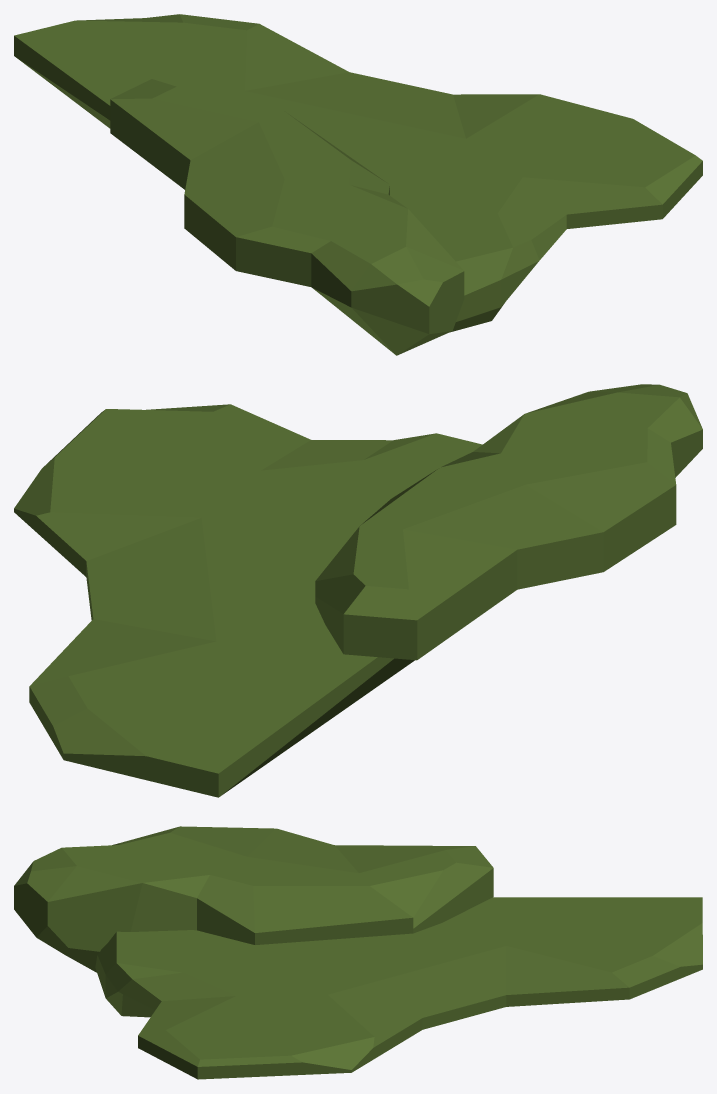
File: LightVegetationDecorationMediumFloorOvergrowth1.fbx
The picture shows the model from 3 angles, top to bottom: view 1: azimuth 30°, elevation 25°; view 2: azimuth 150°, elevation 25°; view 3: azimuth 270°, elevation 25°; orthographic projection. The views are drawn at different scales.
Visible parts, largest first — view 1: LightVegetationDecorationMediumFloorOvergrowth1; view 2: LightVegetationDecorationMediumFloorOvergrowth1; view 3: LightVegetationDecorationMediumFloorOvergrowth1.
Part boxes in pixels (box(x1,y1,x2,y2)): LightVegetationDecorationMediumFloorOvergrowth1: box(14, 14, 702, 355); LightVegetationDecorationMediumFloorOvergrowth1: box(14, 384, 702, 797); LightVegetationDecorationMediumFloorOvergrowth1: box(14, 826, 702, 1079).
Bounding box in the file's own units: 477 × 125 × 696.
